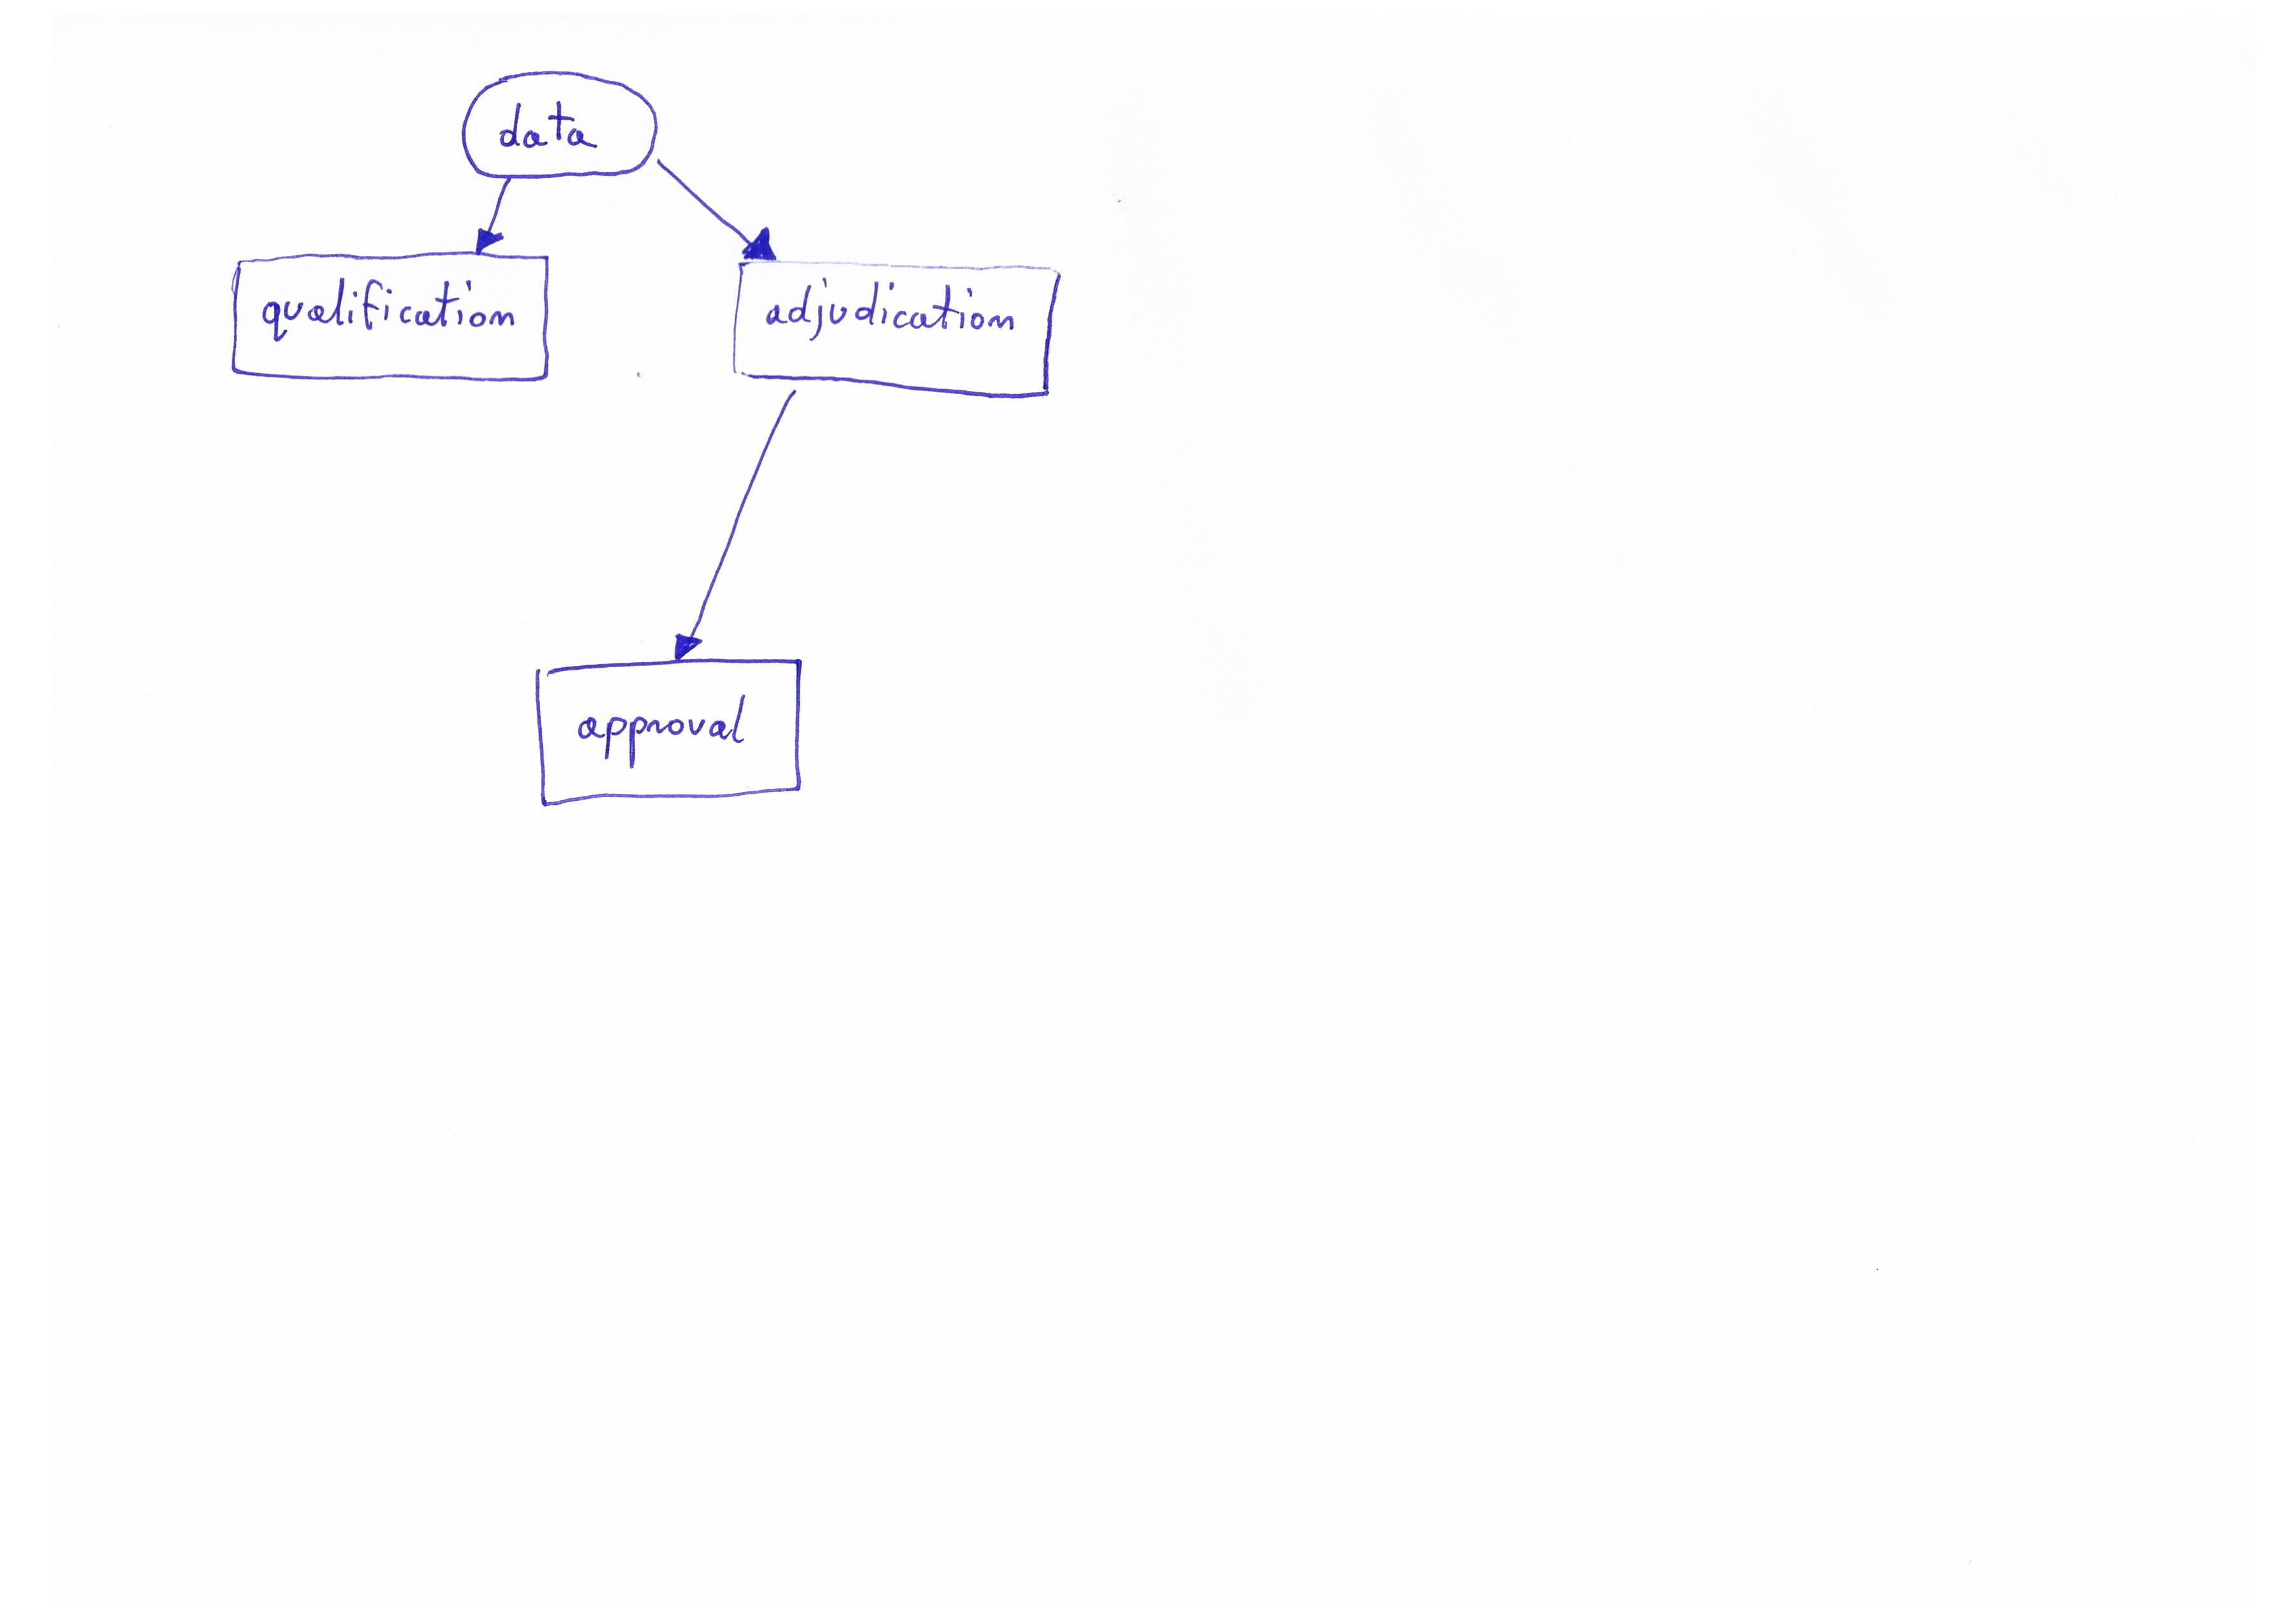arrow_information_requirement: (655, 383, 807, 661), (652, 158, 785, 265), (455, 176, 522, 258)
node_decision: (223, 250, 564, 390), (729, 262, 1063, 401), (529, 659, 817, 817)
node_input_data: (450, 67, 662, 185)
text: (251, 265, 529, 346), (559, 678, 771, 777), (756, 274, 1026, 344), (488, 93, 608, 155)
